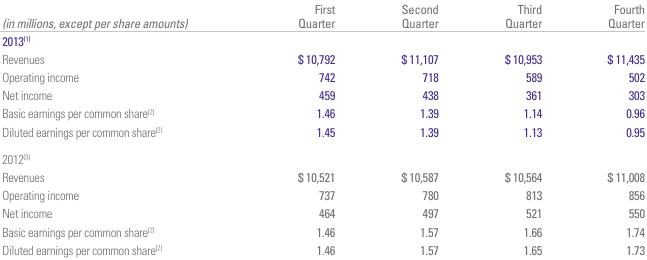table: (1, 0, 644, 256)
table column: (1, 0, 241, 256), (241, 0, 367, 256), (367, 0, 470, 256), (470, 0, 573, 256), (573, 0, 644, 256)
table column header: (1, 0, 644, 31)
table projected row header: (1, 144, 644, 167), (1, 31, 644, 49)
table row: (1, 0, 644, 31), (1, 121, 644, 144), (1, 144, 644, 167), (1, 221, 644, 240), (1, 31, 644, 49), (1, 49, 644, 67), (1, 67, 644, 85), (1, 85, 644, 103), (1, 103, 644, 121), (1, 167, 644, 185), (1, 185, 644, 203), (1, 203, 644, 221), (1, 240, 644, 256)
